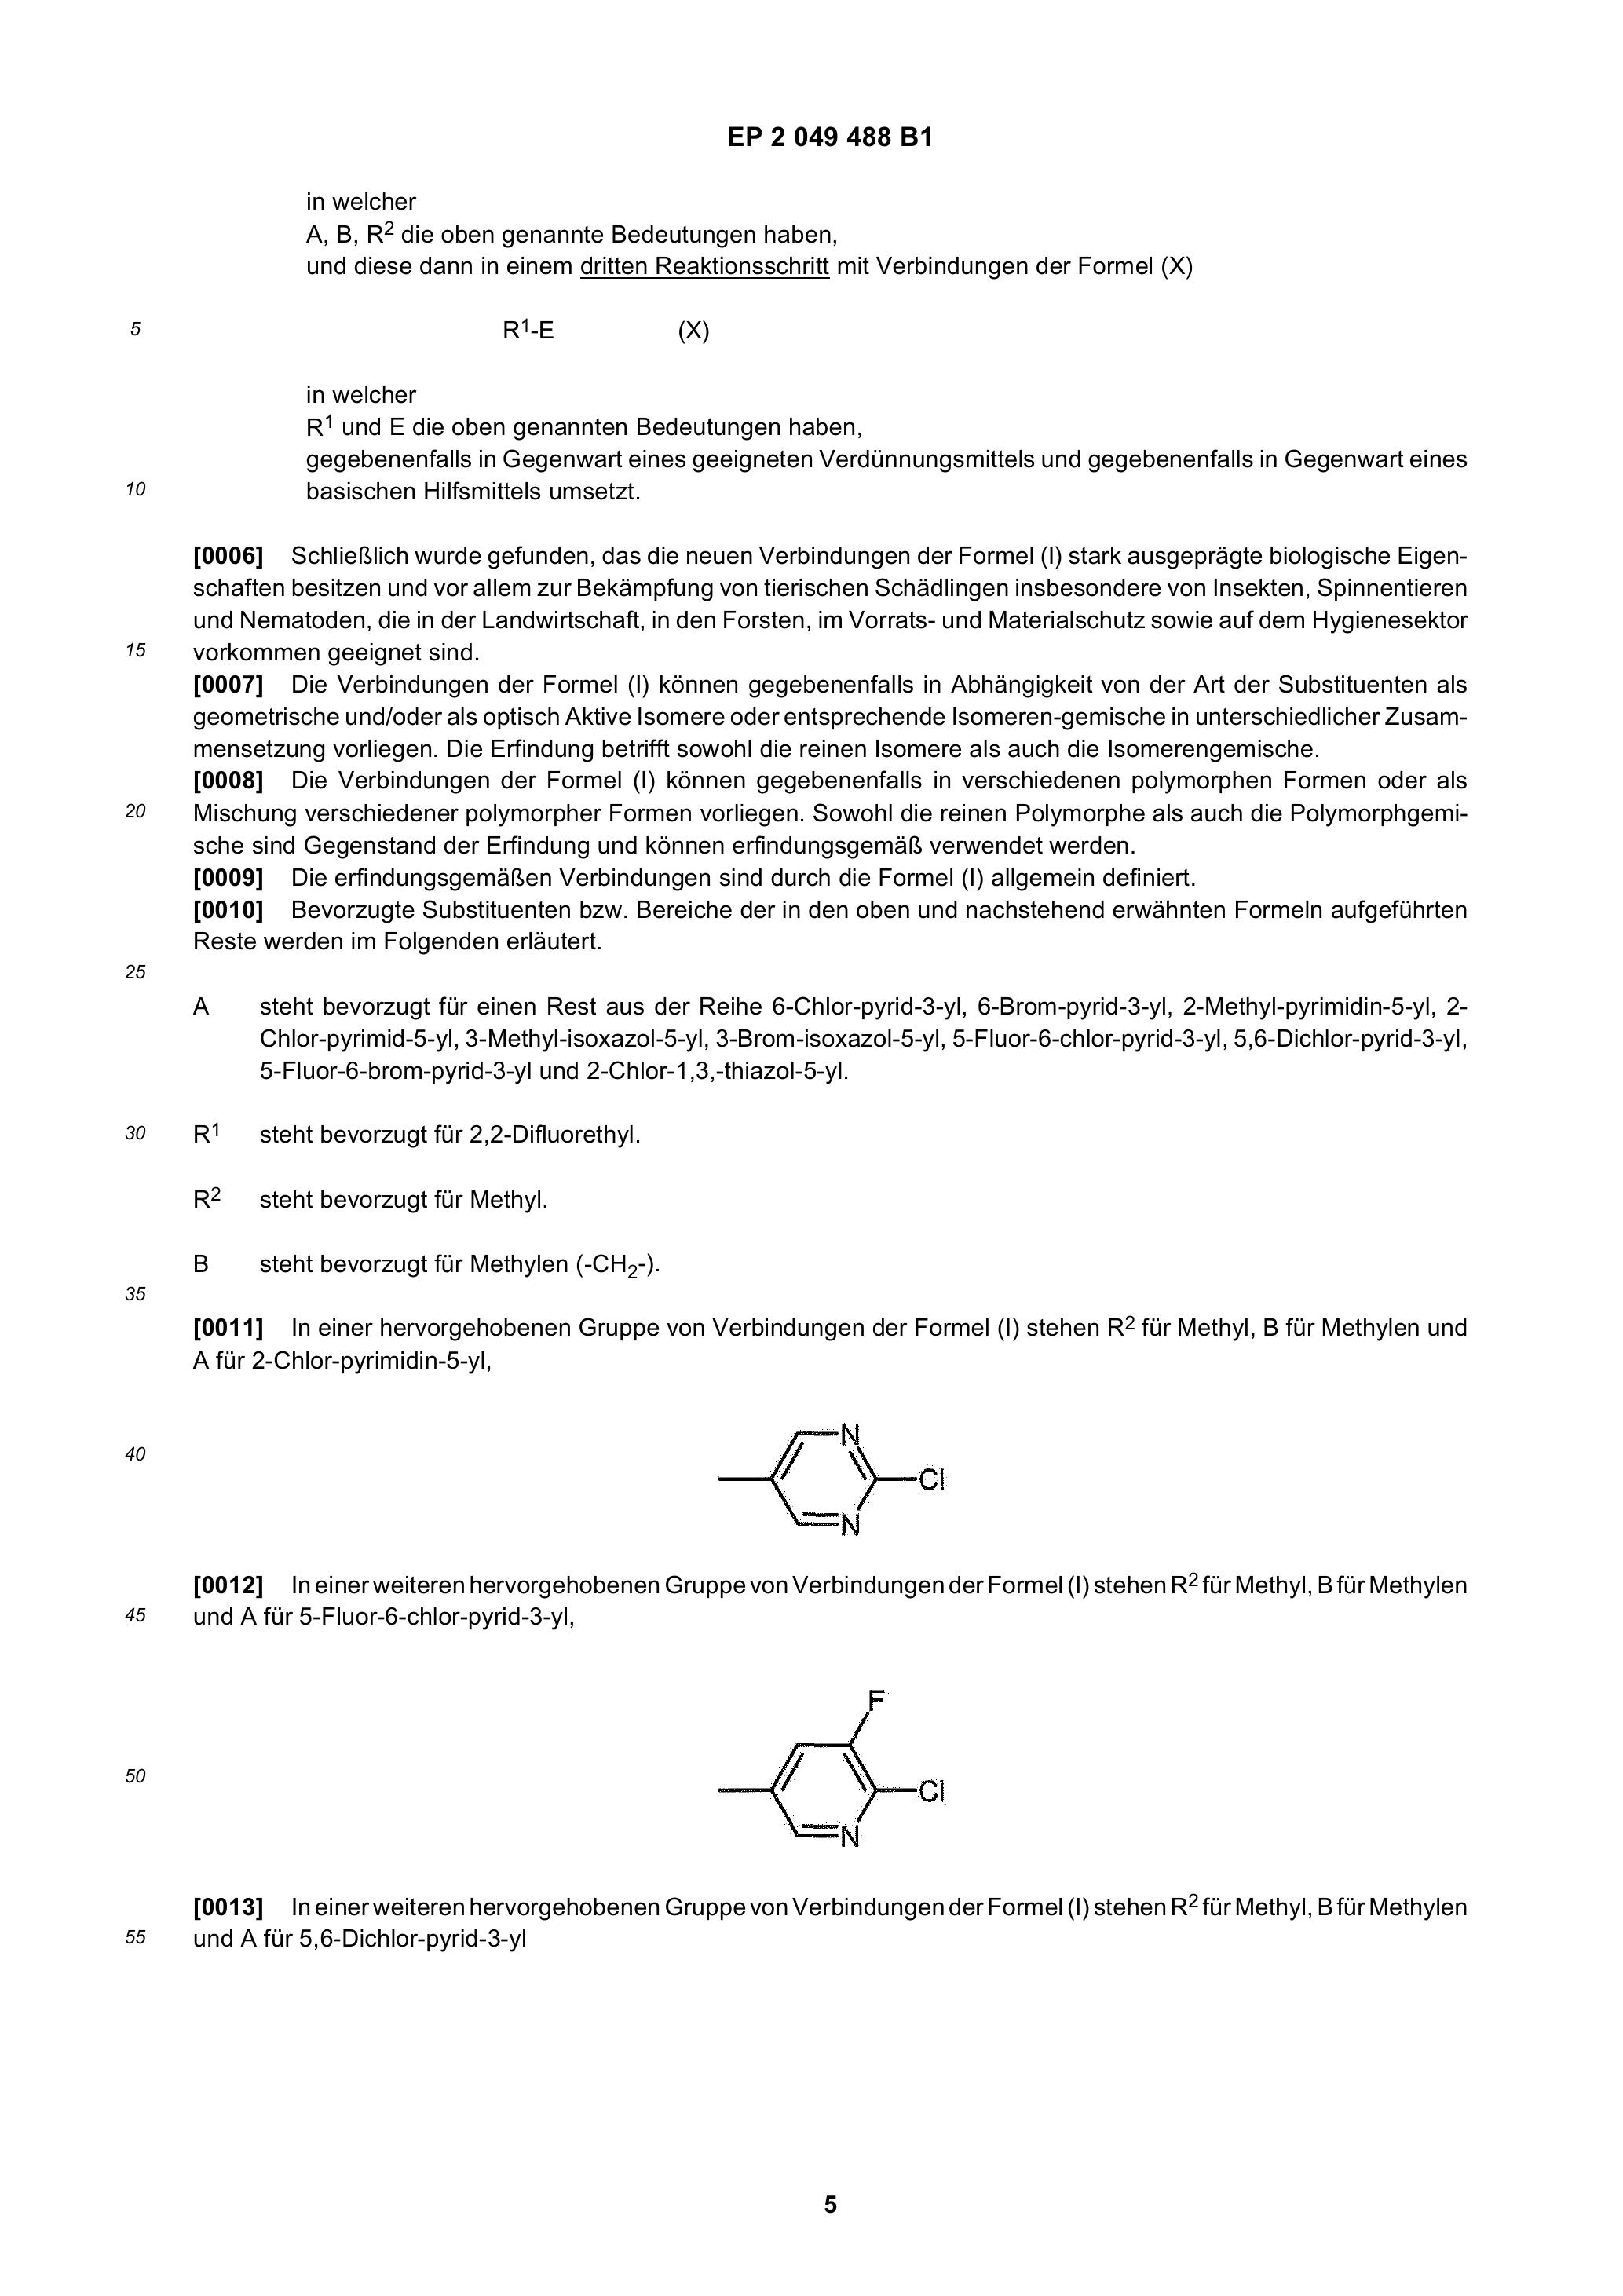intermediates: (715, 1651, 971, 1888), (711, 1377, 963, 1551)
